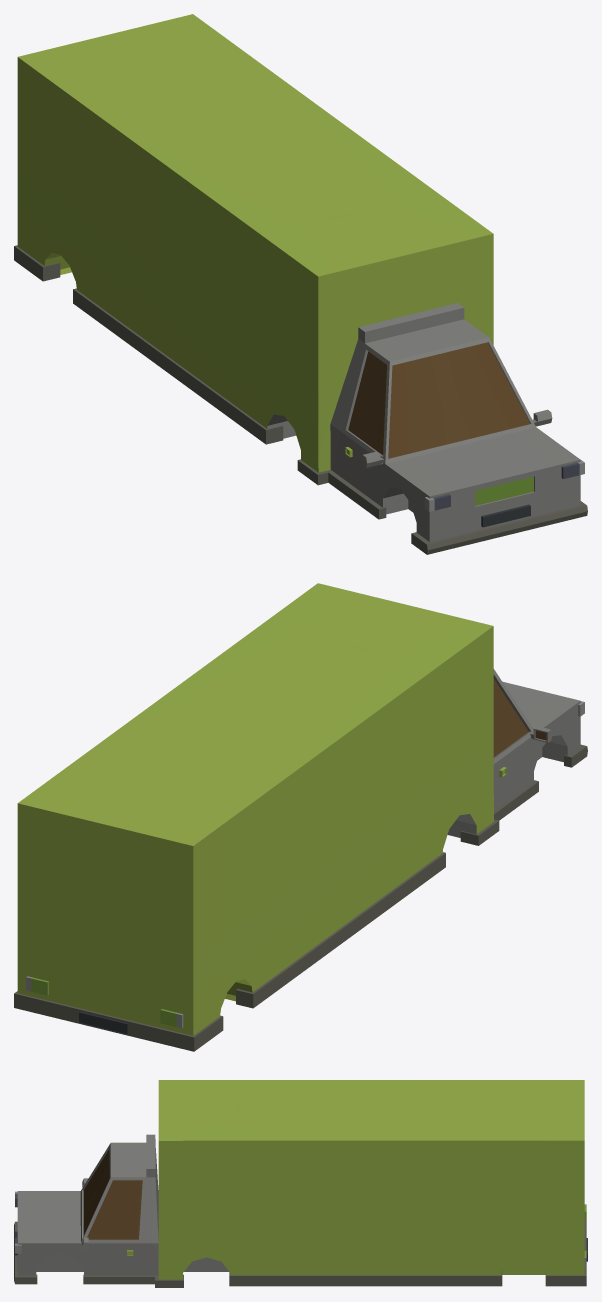
The model's file is Car_27.fbx.
3 views of the same model, one above another, from view 1: azimuth 30°, elevation 25°; view 2: azimuth 150°, elevation 25°; view 3: azimuth 270°, elevation 25° (orthographic). The views are drawn at different scales.
Parts seen in each view (by area): view 1: Car_27; view 2: Car_27; view 3: Car_27.
Boxes of the visible parts, left/top/right/bottom form: Car_27: left=14, top=14, right=587, bottom=554; Car_27: left=14, top=583, right=587, bottom=1051; Car_27: left=14, top=1080, right=587, bottom=1287.
Size of the model in its own units: 1.97 by 2.09 by 7.44.
